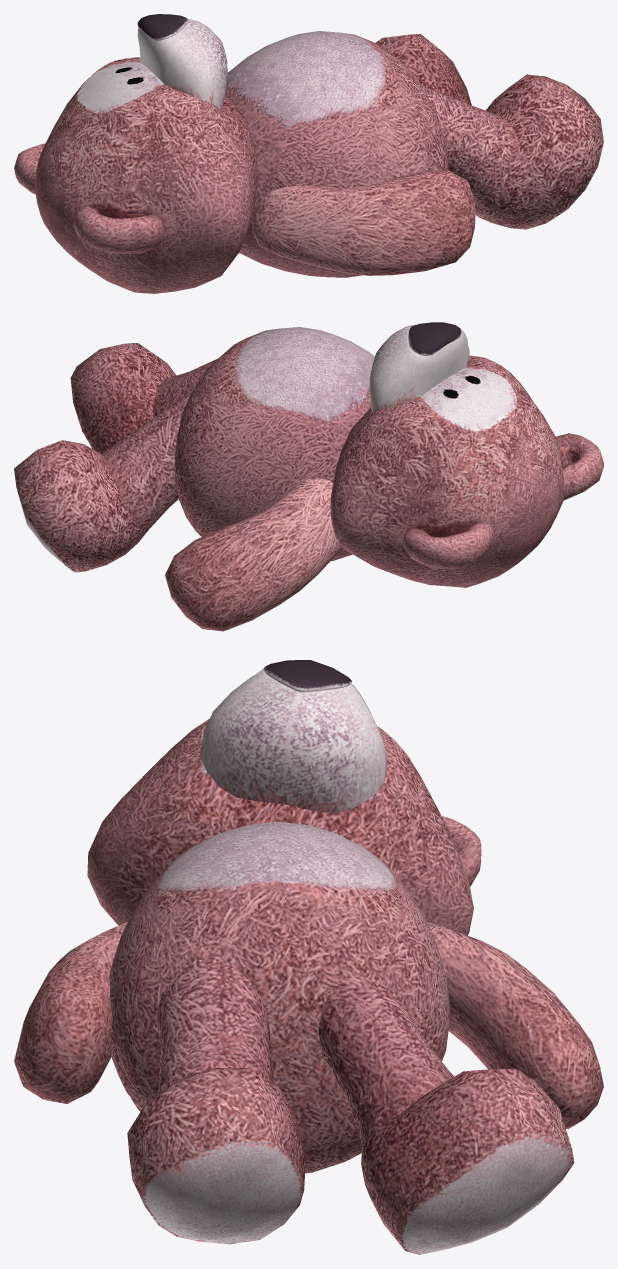
File: bear.glb
3 views of the same model, one above another, from view 1: azimuth 30°, elevation 25°; view 2: azimuth 150°, elevation 25°; view 3: azimuth 270°, elevation 25° (orthographic). The views are drawn at different scales.
Visible parts, largest first — view 1: TeddyBearPT; view 2: TeddyBearPT; view 3: TeddyBearPT.
Part boxes in pixels (left/top/right/bottom): TeddyBearPT: left=14, top=14, right=603, bottom=293; TeddyBearPT: left=14, top=322, right=603, bottom=631; TeddyBearPT: left=14, top=660, right=603, bottom=1254.
Bounding box in the file's own units: 20.1 × 10.44 × 14.43.
Materials: 1 (1 with a texture image).
